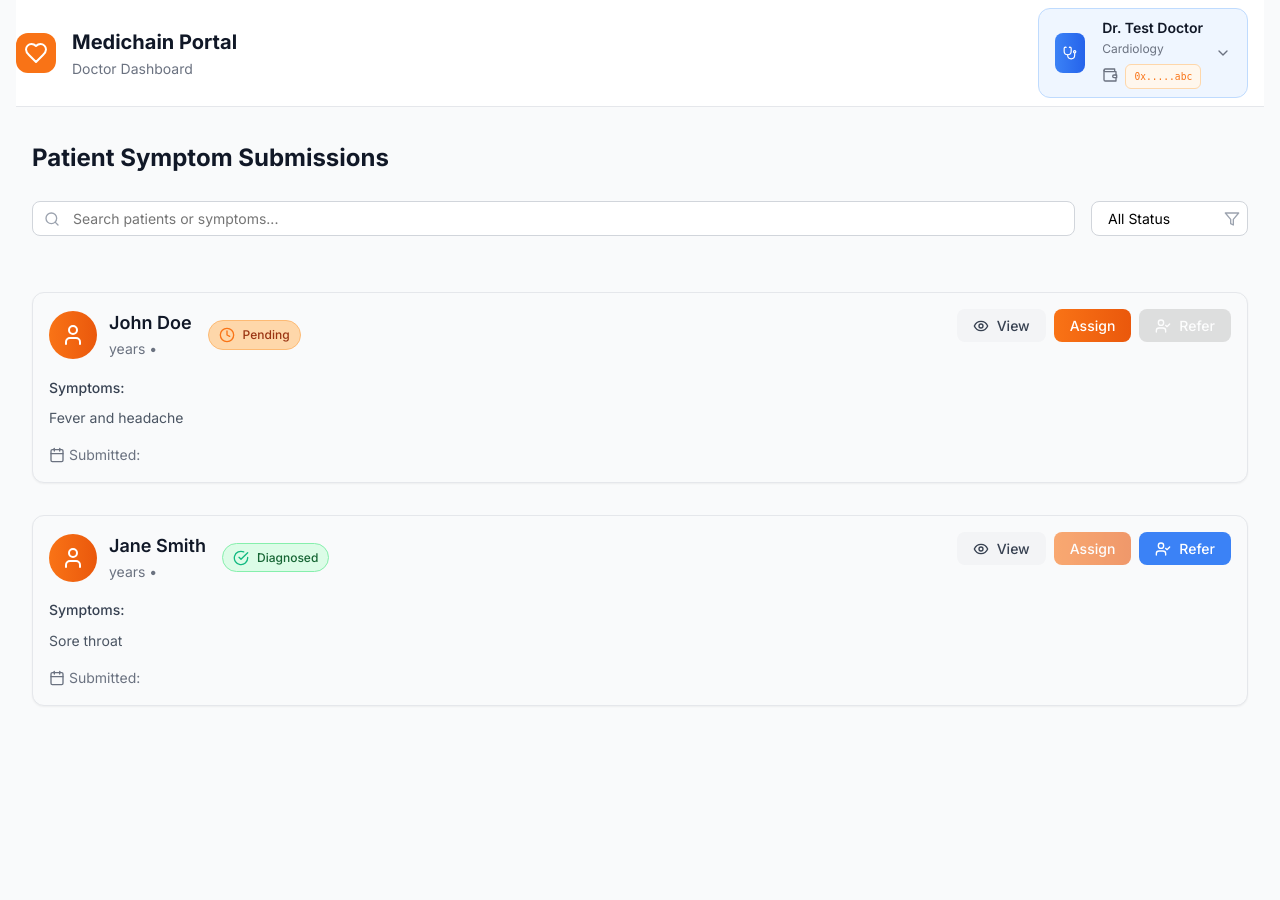
Test case: DoctorDashboard › shows logout confirmation and logs out user on confirmation
Expected: the text "Dr. Test Doctor" is shown, [1102, 19, 1203, 36]
Click the text "Dr. Test Doctor" at {"x": 1143, "y": 53}, box [1022, 0, 1264, 106]
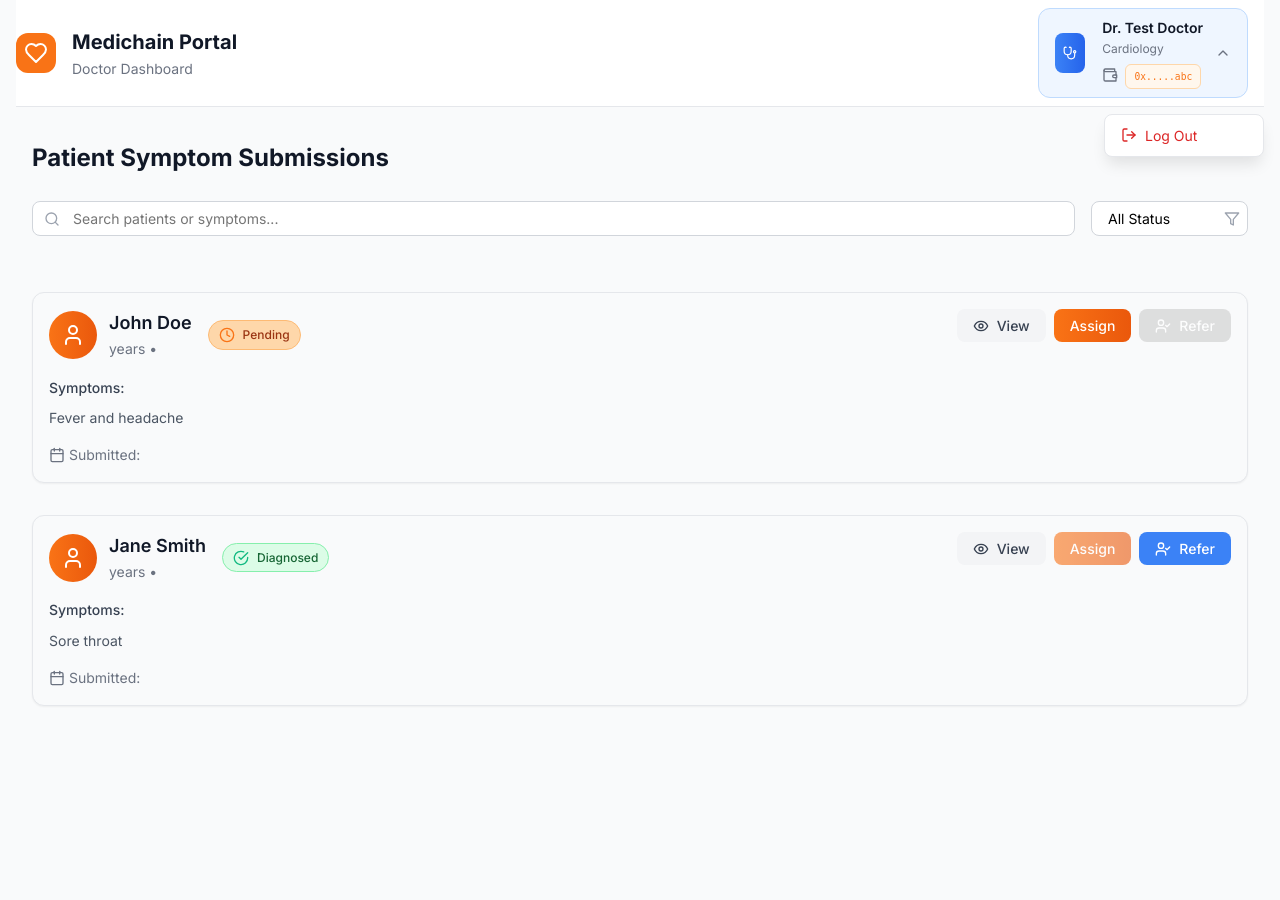
Click the button "Log Out" at {"x": 1184, "y": 135}, box [1105, 115, 1263, 156]
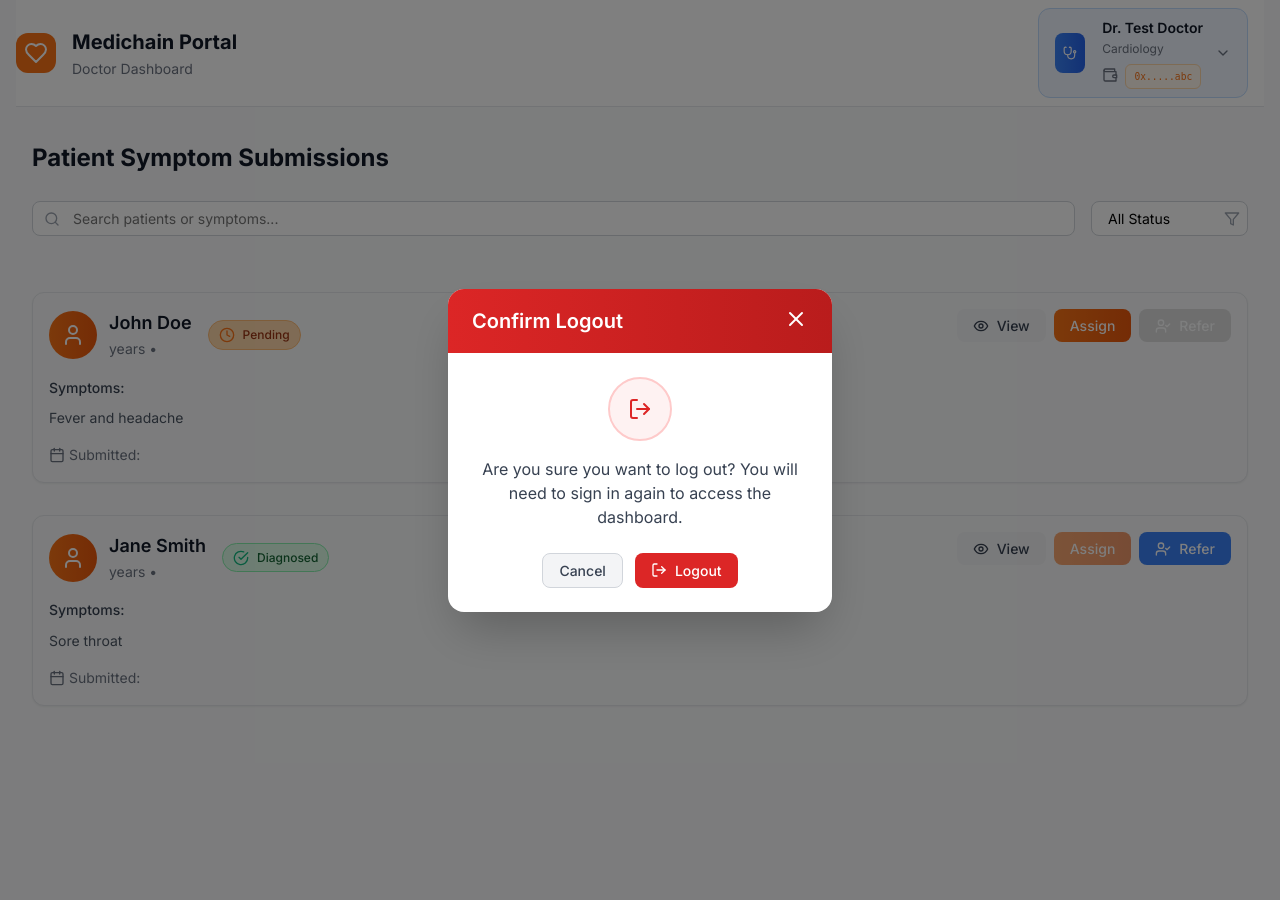
Expected: the text "Are you sure" is shown, [482, 458, 798, 526]
